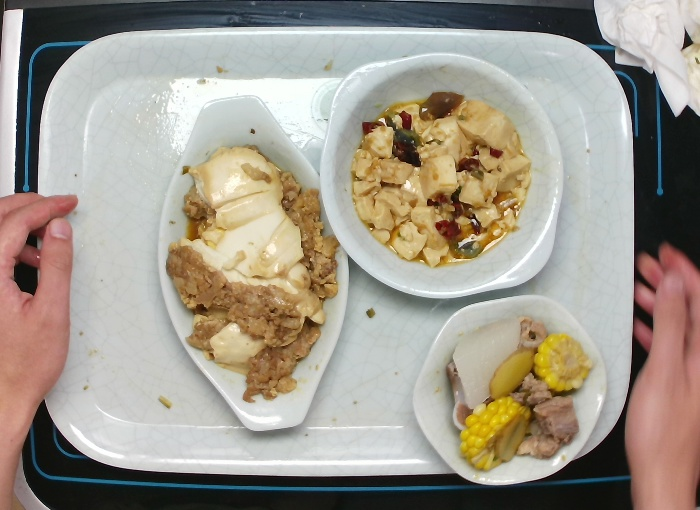JYsf-Shuang_Er_Wan: (321, 52, 566, 299)
JYsf-Yu_Pan: (157, 93, 351, 435)
WCQzf-Hua_Duo_Wan: (416, 291, 612, 489)
